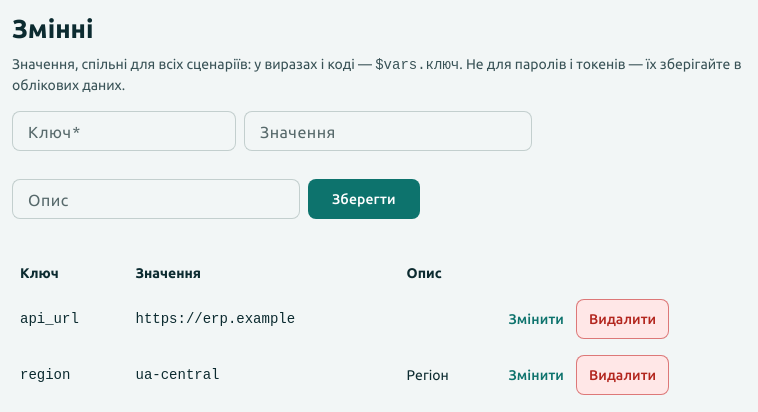
Scenario: VariablesSection › некоректний ключ — помилка поля, запиту немає
The image size is (758, 412).
Type "1bad-key" into the field with test id "var-key".
click(124, 131); type("1bad-key")  # box x1=28 y1=119 x2=220 y2=143
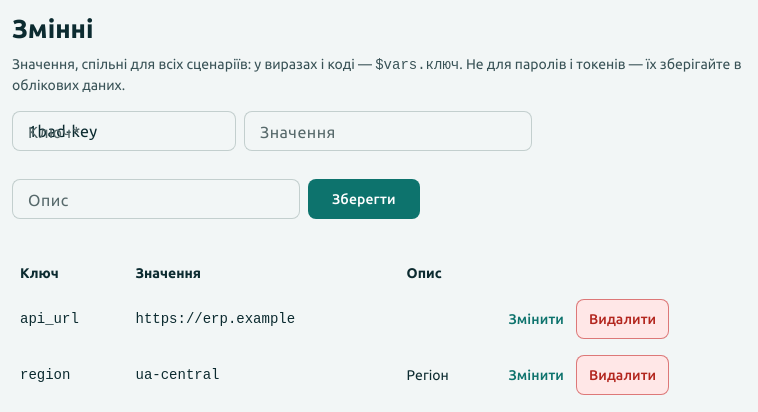
Click the button with test id "var-save".
click(364, 199)  # box x1=308 y1=179 x2=420 y2=219
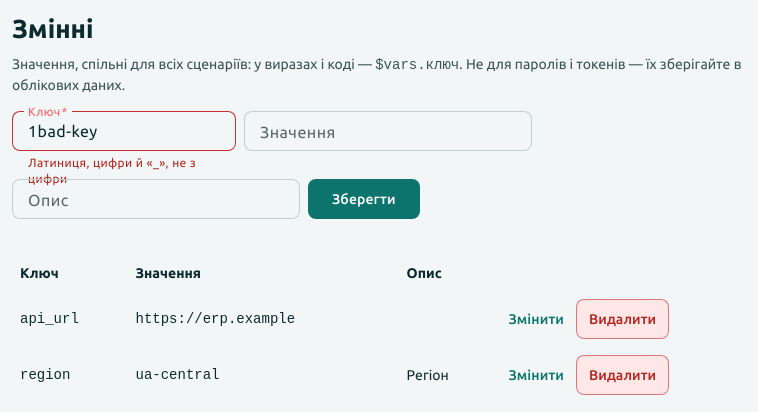
Expected: the text "Латиниця, цифри й «_», не з цифри" is shown, x1=28 y1=151 x2=220 y2=187
